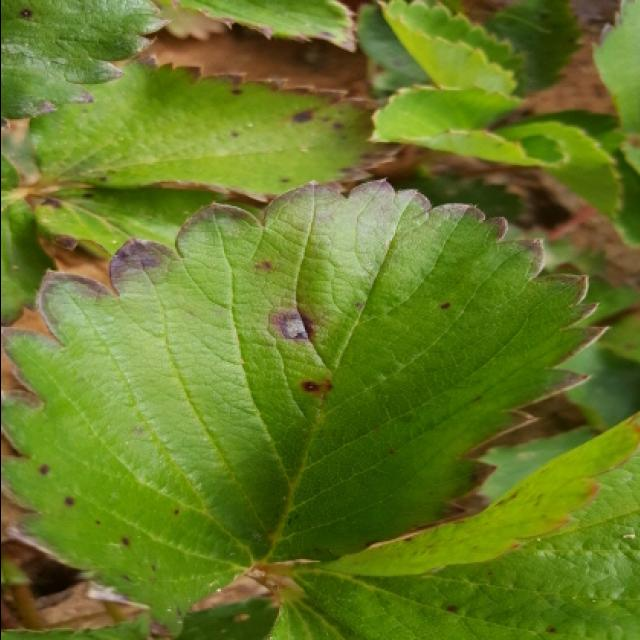Leaf Spot: (2, 178, 609, 638), (284, 409, 640, 638), (29, 49, 408, 211), (2, 0, 168, 130), (26, 181, 215, 293), (171, 0, 355, 56)
